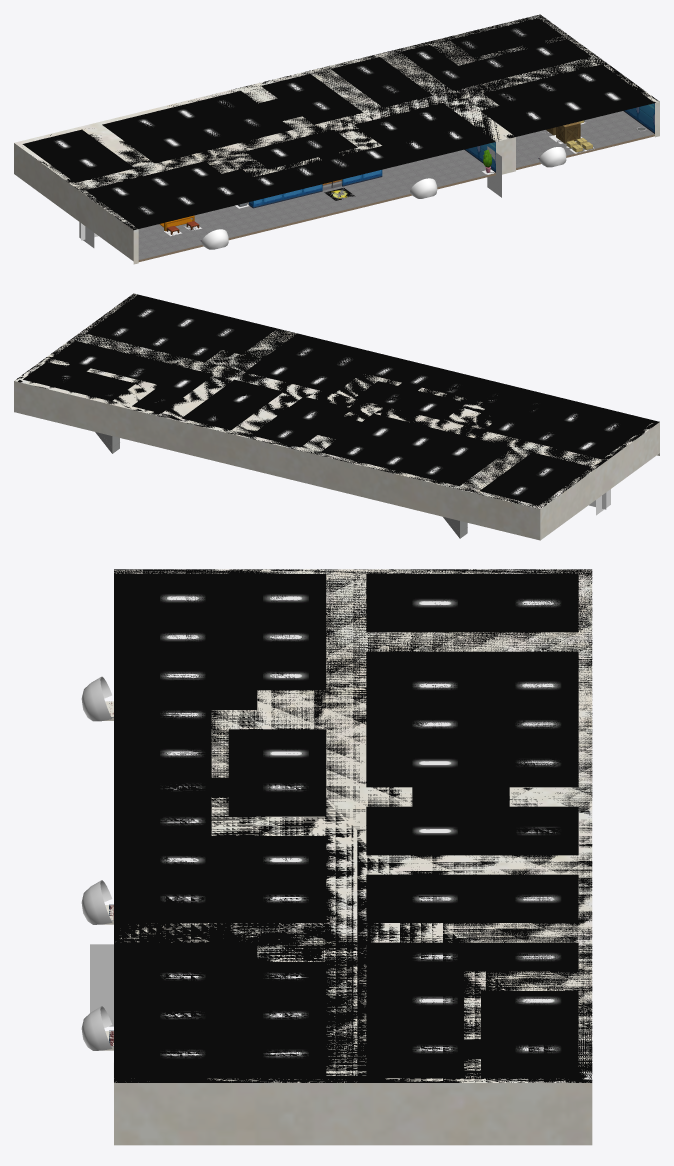
3 views of the same model, one above another, from view 1: azimuth 30°, elevation 25°; view 2: azimuth 150°, elevation 25°; view 3: azimuth 270°, elevation 25° (orthographic). The views are drawn at different scales.
Visible parts, largest first — view 1: P_D_006_Wall_01_1F_01, P_D_006_Floor_01_1F_01, P_C_001_ComWall_01, P_C_001_RootShadow_04__4_, P_C_001_EntranceLight_01__2_, P_C_001_EntranceLight_01__3_, P_C_001_EntranceLight_01__4_, P_C_001_Woodbox_01__3_; view 2: P_D_006_Wall_01_1F_01; view 3: P_D_006_Wall_01_1F_01, P_C_001_RootShadow_04__4_, P_C_001_EntranceLight_01__4_, P_C_001_EntranceLight_01__2_, P_C_001_EntranceLight_01__3_.
Part boxes in pixels (x1=…): P_D_006_Wall_01_1F_01: x1=14, y1=14, x2=659, y2=264; P_D_006_Floor_01_1F_01: x1=138, y1=111, x2=654, y2=259; P_C_001_ComWall_01: x1=138, y1=194, x2=412, y2=261; P_C_001_RootShadow_04__4_: x1=487, y1=146, x2=501, y2=197; P_C_001_EntranceLight_01__2_: x1=539, y1=147, x2=566, y2=167; P_C_001_EntranceLight_01__3_: x1=410, y1=178, x2=437, y2=198; P_C_001_EntranceLight_01__4_: x1=201, y1=229, x2=228, y2=249; P_C_001_Woodbox_01__3_: x1=556, y1=122, x2=580, y2=143; P_D_006_Wall_01_1F_01: x1=14, y1=293, x2=659, y2=540; P_D_006_Wall_01_1F_01: x1=114, y1=569, x2=592, y2=1145; P_C_001_RootShadow_04__4_: x1=90, y1=944, x2=113, y2=1026; P_C_001_EntranceLight_01__4_: x1=81, y1=676, x2=111, y2=721; P_C_001_EntranceLight_01__2_: x1=81, y1=1006, x2=112, y2=1050; P_C_001_EntranceLight_01__3_: x1=81, y1=880, x2=112, y2=924.
Size of the model in its own units: 0.53 by 0.053 by 0.2226.
42 materials, 42 textured.
